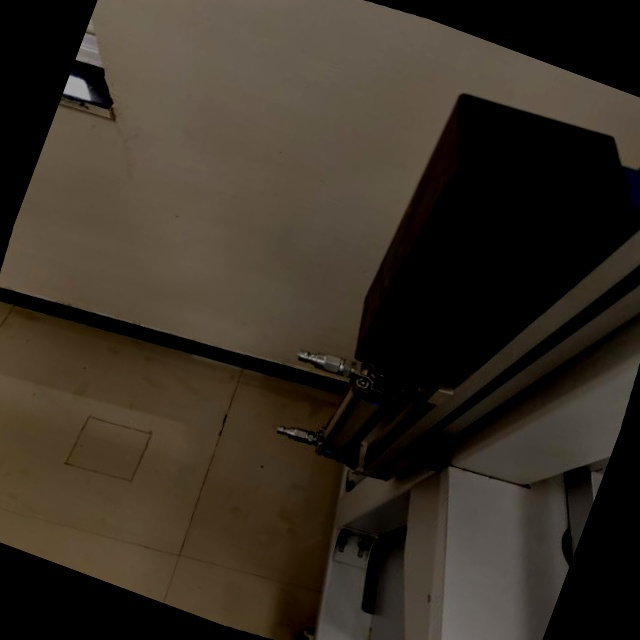load: (237, 41, 640, 556)
